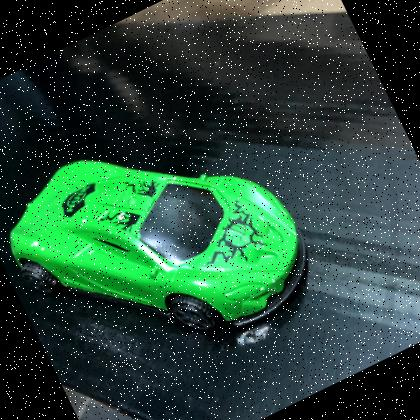Car: (9, 160, 305, 332)
